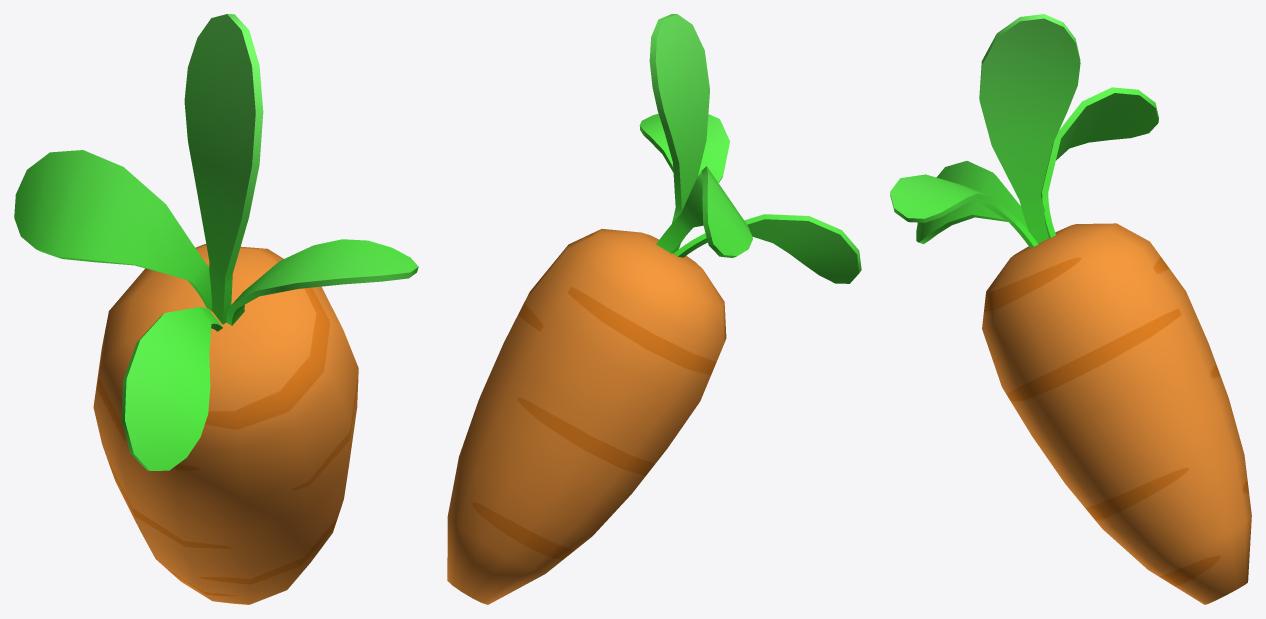
File: carrot2.fbx
The picture shows the model from 3 angles, left to right: view 1: azimuth 30°, elevation 25°; view 2: azimuth 150°, elevation 25°; view 3: azimuth 270°, elevation 25°; orthographic projection. The views are drawn at different scales.
Parts seen in each view (by area): view 1: carrot_body, leaves; view 2: carrot_body, leaves; view 3: carrot_body, leaves.
Boxes of the visible parts, bbox=[...] form: carrot_body: bbox=[93, 244, 358, 604]; leaves: bbox=[14, 14, 418, 470]; carrot_body: bbox=[447, 229, 726, 604]; leaves: bbox=[639, 14, 861, 283]; carrot_body: bbox=[982, 223, 1251, 604]; leaves: bbox=[890, 14, 1158, 247].
Size of the model in its own units: 89.35 by 169 by 102.
1 material, 1 textured.
